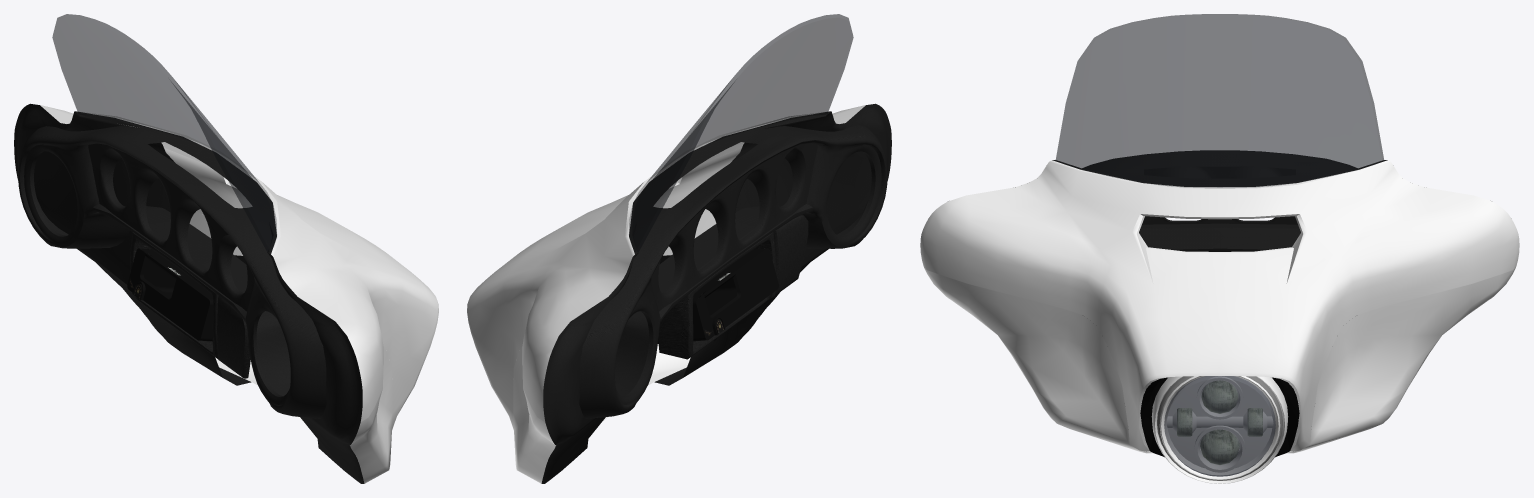
The model's file is carena_batwing.glb.
3 views of the same model, side by side, from view 1: azimuth 30°, elevation 25°; view 2: azimuth 150°, elevation 25°; view 3: azimuth 270°, elevation 25° (orthographic). The views are drawn at different scales.
Visible parts, largest first — view 1: centra; view 2: centra; view 3: centra.
Part boxes in pixels (x1=…): centra: x1=14, y1=14, x2=438, y2=483; centra: x1=467, y1=14, x2=891, y2=483; centra: x1=920, y1=14, x2=1519, y2=483.
Size of the model in its own units: 0.4434 by 0.6785 by 0.9791.
10 materials, 4 textured.
